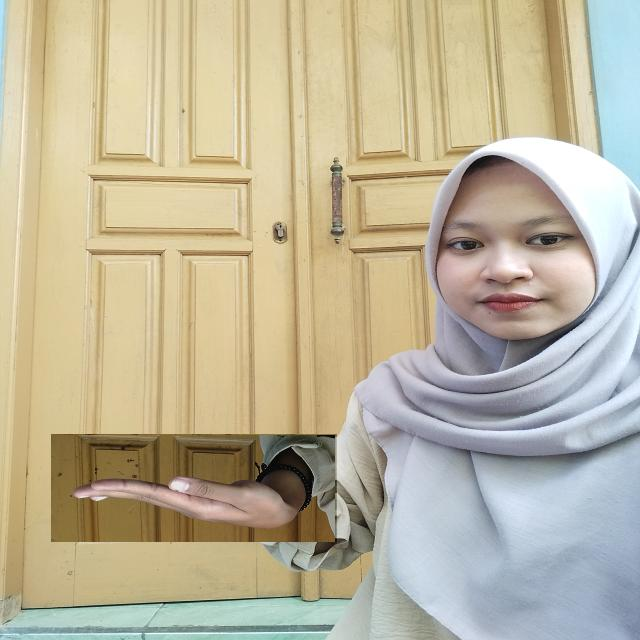adik: (51, 434, 338, 542)
